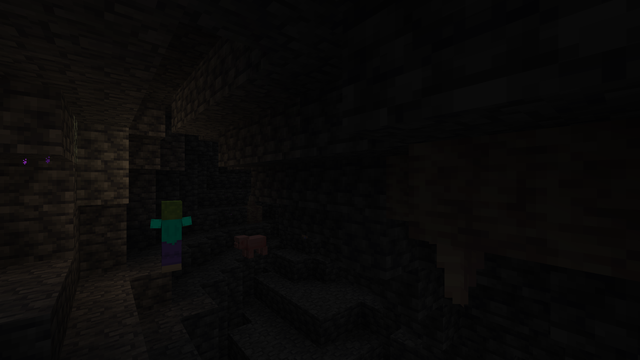cochons: (240, 233, 265, 258)
zombies: (157, 201, 184, 274)
